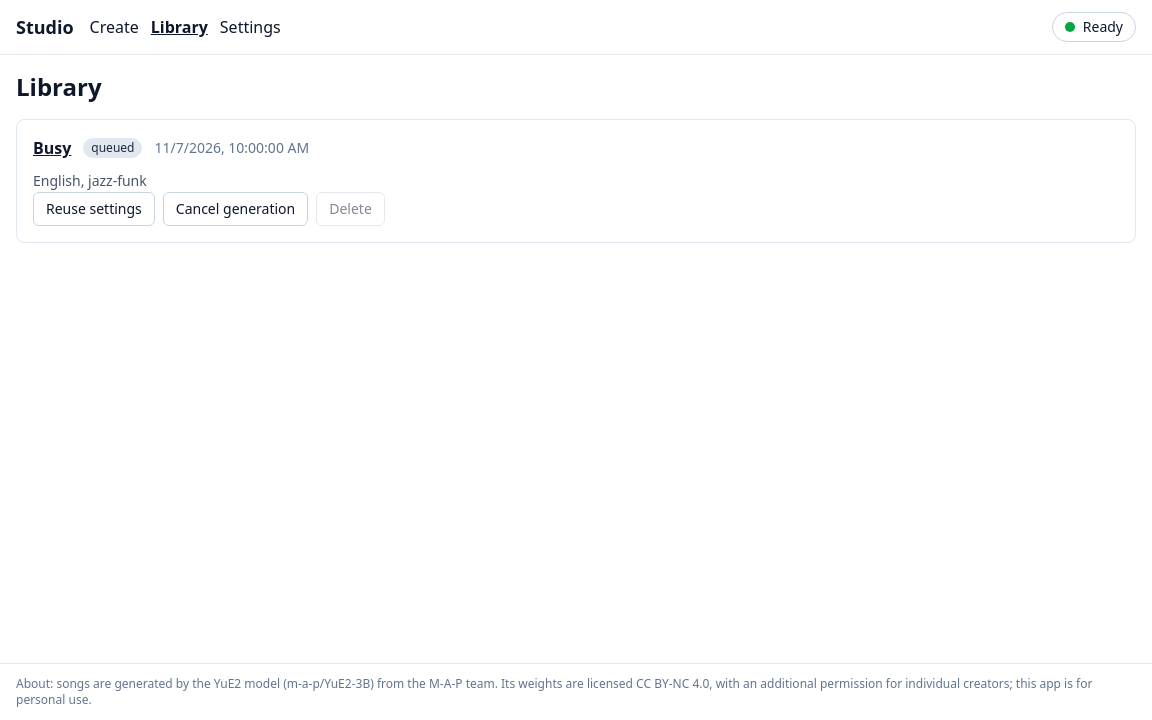
Test case: Library (U-4) › Cancel on an in-progress row posts and refreshes the list
Click the button with aria-label "Cancel Busy": (236, 209) [163,192,308,226]
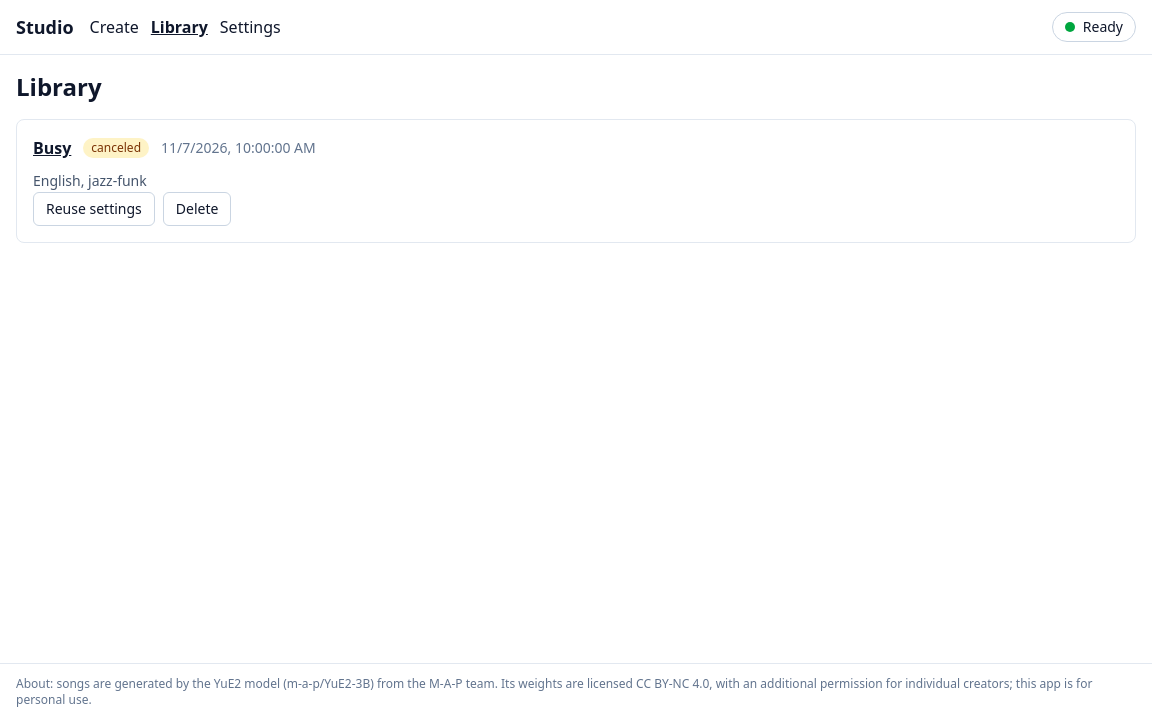
Check: the text "canceled" is shown, box [83,138,149,158]
Check: the button with aria-label "Delete Busy" is enabled, box [163,192,231,226]
